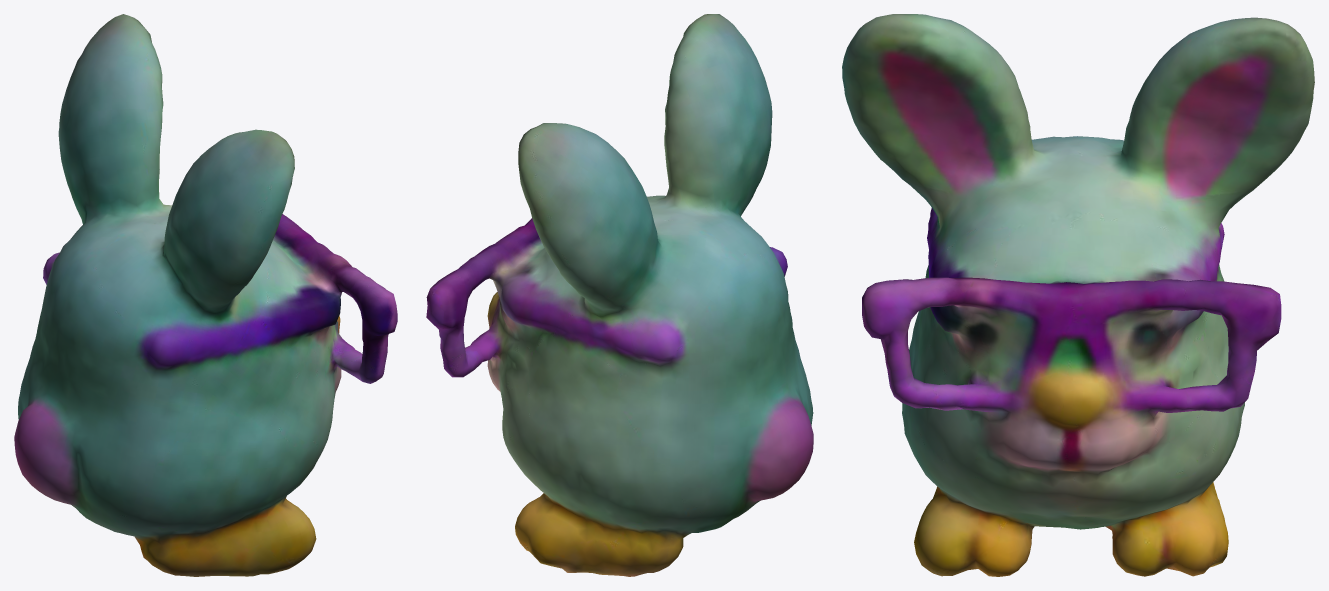
The model's file is 033_Create_rabbit_with_Square_face_with_glasses_a_serious__0614161331_preview.obj.
3 renders of one model, left to right at view 1: azimuth 30°, elevation 25°; view 2: azimuth 150°, elevation 25°; view 3: azimuth 270°, elevation 25°, orthographic. The views are drawn at different scales.
Parts seen in each view (by area): view 1: Mesh1; view 2: Mesh1; view 3: Mesh1.
Part boxes in pixels (x1,y1,x2,y2): Mesh1: (14, 14, 397, 576); Mesh1: (426, 14, 813, 576); Mesh1: (842, 14, 1314, 576).
Size of the model in its own units: 0.8527 by 1.2 by 0.9393.
1 material, 1 textured.
